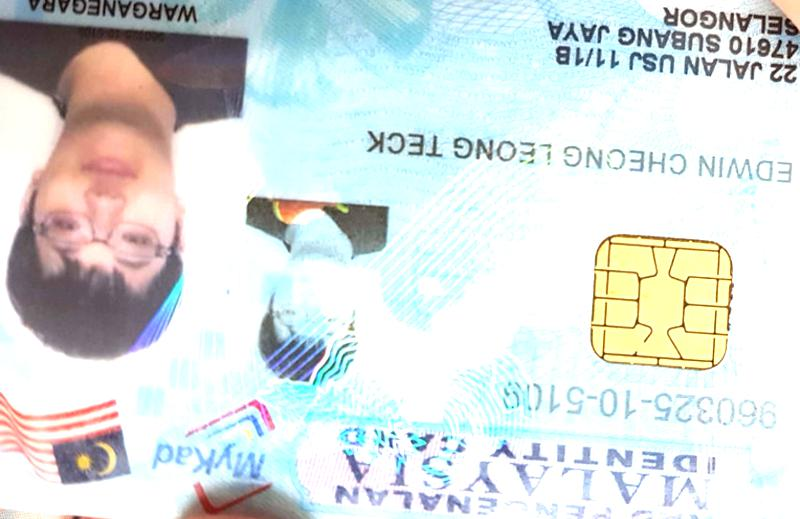hologram: (383, 175, 569, 312)
